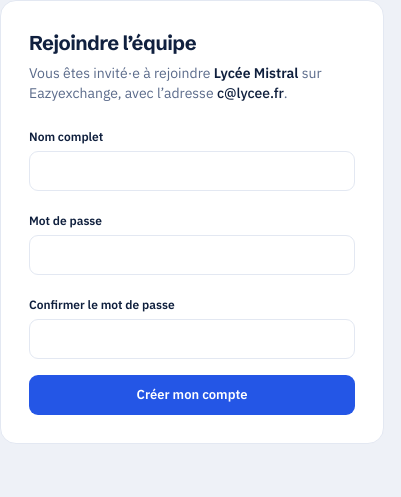
Scenario: JoinForm › falls back to generic copy if the action throws unexpectedly
The image size is (401, 497).
Type "Claire Nguyen" into the field labelled "Nom complet" at (192, 171), box [29,151,355,191]
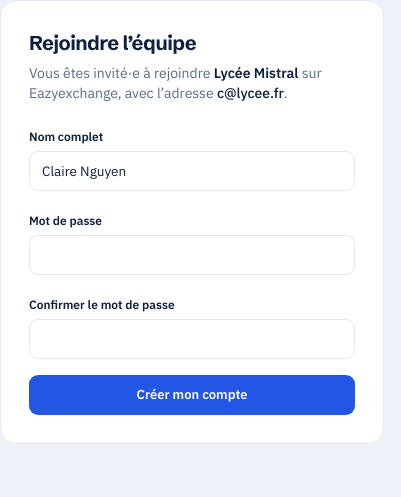
Type "longenough" into the password field labelled "Mot de passe" at (192, 255), box [29,235,355,275]
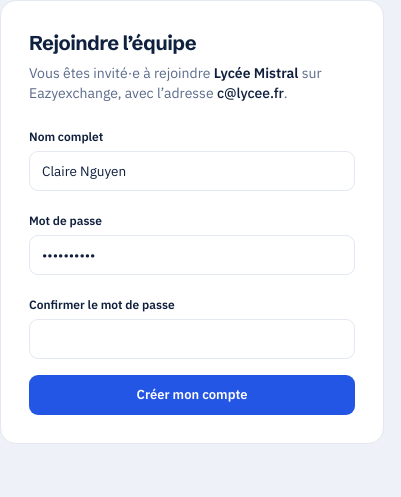
Type "longenough" into the password field labelled "Confirmer le mot de passe" at (192, 339), box [29,319,355,359]
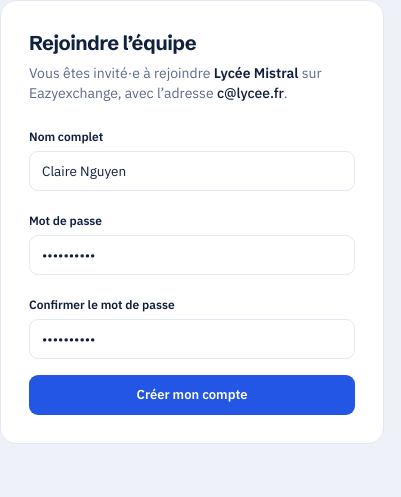
Click the button "Créer mon compte" at (192, 395), box [29,375,355,414]
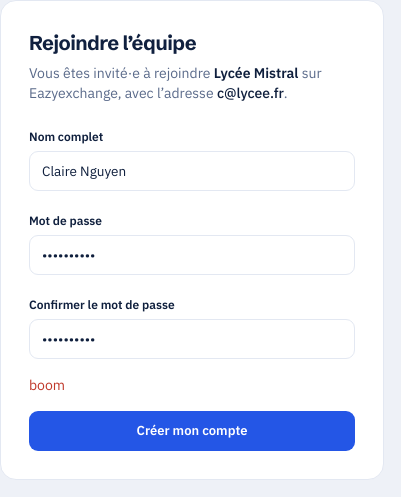
Check: the text "boom" is shown, box [29,376,65,394]
